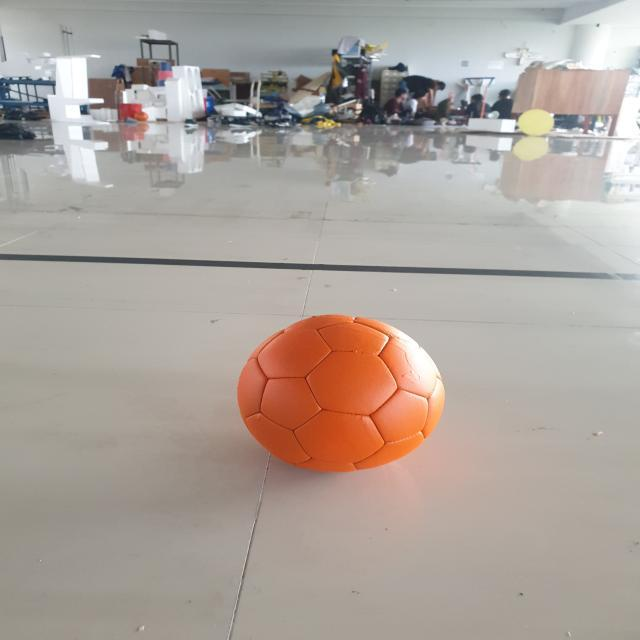bola: (232, 308, 448, 482)
